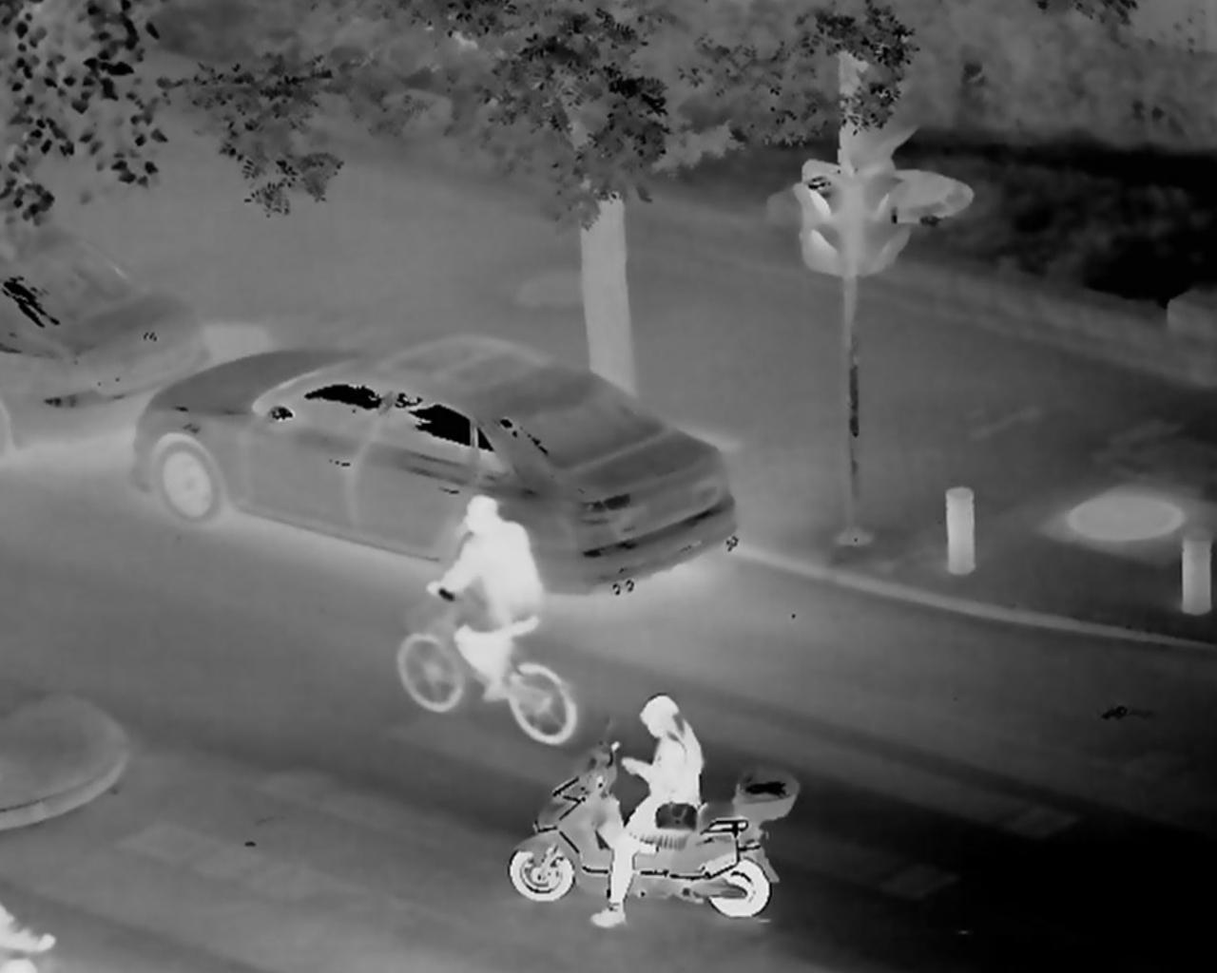person: (419, 496, 551, 732), (591, 694, 712, 938)
